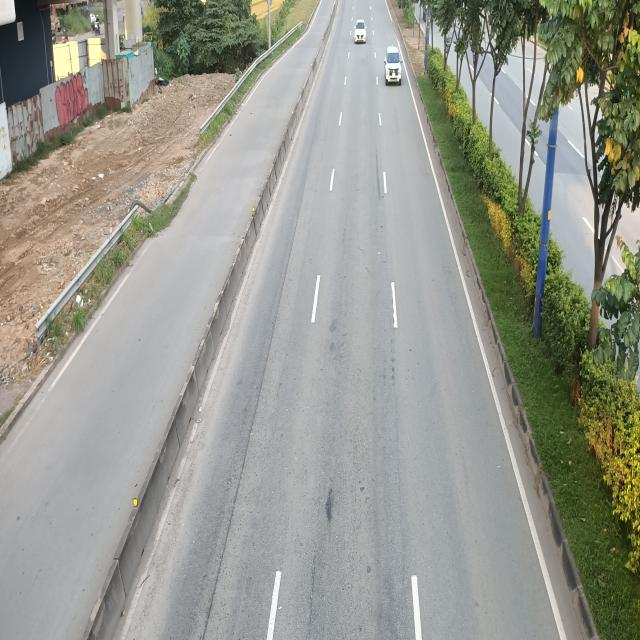car: (383, 46, 402, 85), (354, 20, 366, 44)
